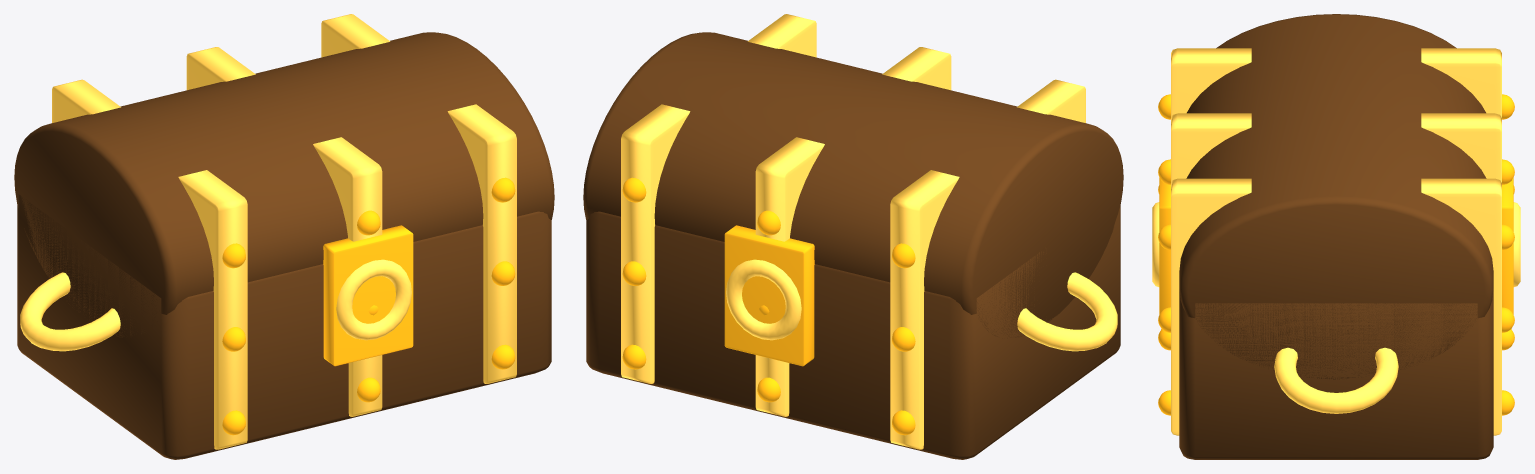
Rendered from token-reliquary_chest.glb.
3 views of the same model, side by side, from view 1: azimuth 30°, elevation 25°; view 2: azimuth 150°, elevation 25°; view 3: azimuth 270°, elevation 25° (orthographic).
Parts seen in each view (by area): view 1: Cylinder, Cube, Cube.001, Cube.003, Cube.004, Cube.002, Torus, Torus.002; view 2: Cylinder, Cube, Cube.001, Cube.003, Cube.005, Cube.002, Torus, Torus.003; view 3: Cylinder, Cube, Cube.003, Cube.002, Cube.001, Torus.001, Cube.004, Cube.005, Torus.002, Torus.003.
Boxes of the visible parts, bbox=[...] form: Cylinder: bbox=[14, 32, 554, 337]; Cube: bbox=[17, 194, 551, 459]; Cube.001: bbox=[52, 79, 247, 449]; Cube.003: bbox=[321, 14, 516, 383]; Cube.004: bbox=[323, 225, 413, 366]; Cube.002: bbox=[186, 47, 382, 416]; Torus: bbox=[20, 272, 120, 351]; Torus.002: bbox=[336, 259, 411, 340]; Cylinder: bbox=[583, 32, 1123, 338]; Cube: bbox=[586, 205, 1120, 459]; Cube.001: bbox=[890, 79, 1085, 449]; Cube.003: bbox=[621, 14, 816, 383]; Cube.005: bbox=[724, 225, 814, 366]; Cube.002: bbox=[755, 47, 951, 416]; Torus: bbox=[1017, 272, 1117, 351]; Torus.003: bbox=[726, 259, 801, 340]; Cylinder: bbox=[1179, 14, 1493, 379]; Cube: bbox=[1179, 289, 1493, 459]; Cube.003: bbox=[1171, 178, 1501, 435]; Cube.002: bbox=[1171, 113, 1501, 182]; Cube.001: bbox=[1171, 48, 1501, 117]; Torus.001: bbox=[1274, 347, 1398, 413]; Cube.004: bbox=[1159, 177, 1170, 314]; Cube.005: bbox=[1502, 177, 1513, 314]; Torus.002: bbox=[1152, 202, 1159, 286]; Torus.003: bbox=[1513, 202, 1520, 286].
Bounding box in the file's own units: 2.05 × 1.03 × 1.29.
